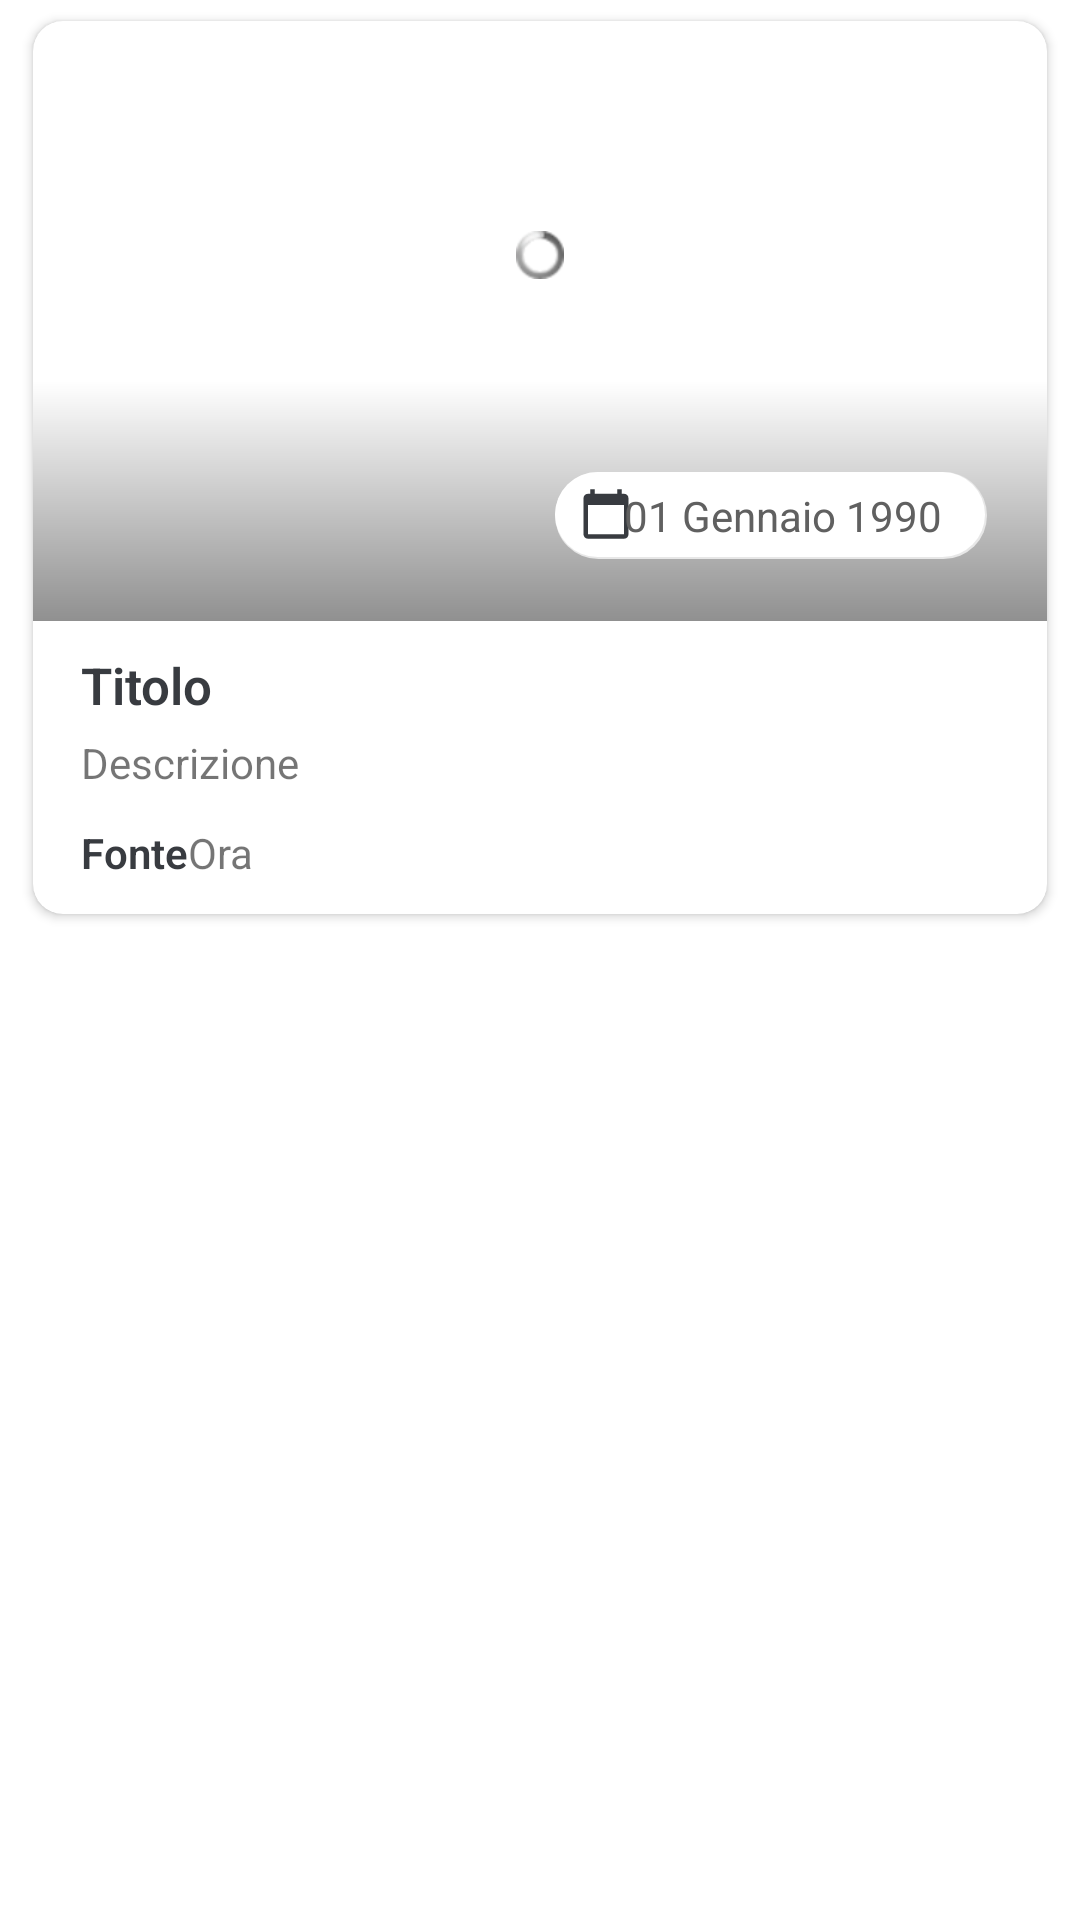

Icons on this 1080*1920 Android screen, each with its box as (x1, y1, x2, y2):
calendar today: (583, 489, 633, 539)
